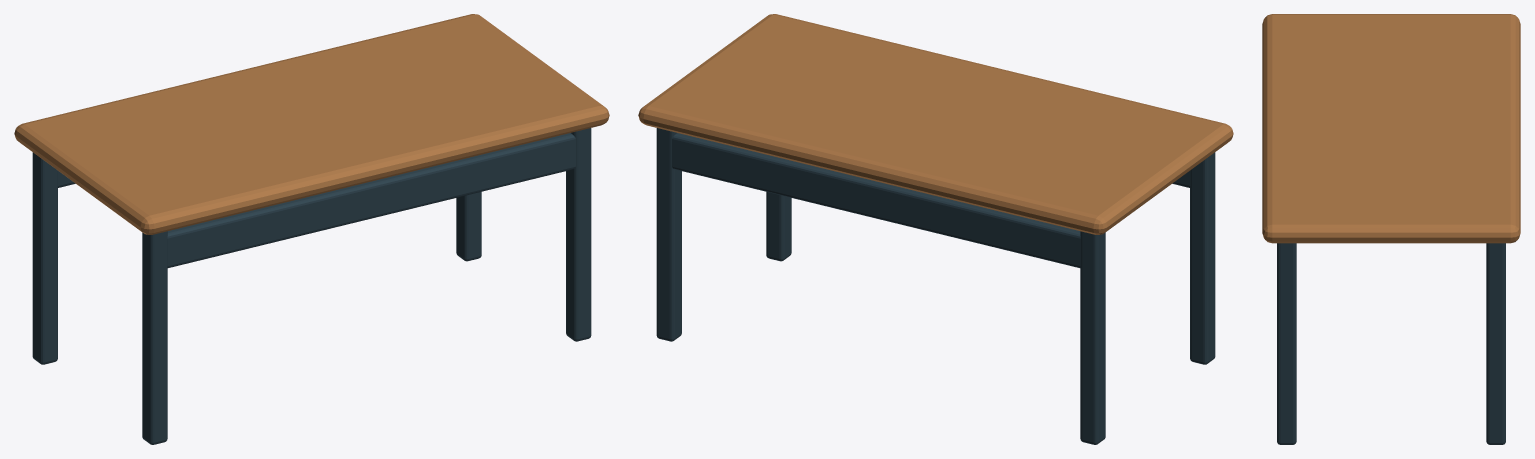
File: StudioDesk.fbx
3 views of the same model, side by side, from view 1: azimuth 30°, elevation 25°; view 2: azimuth 150°, elevation 25°; view 3: azimuth 270°, elevation 25° (orthographic). The views are drawn at different scales.
Visible parts, largest first — view 1: Oak worktop, Apron, Leg, Leg.001, Leg.002, Leg.003; view 2: Oak worktop, Apron.001, Leg.001, Leg, Leg.003, Leg.002; view 3: Oak worktop, Leg.002, Leg.003.
Boxes of the visible parts, bbox=[...] form: Oak worktop: bbox=[14, 14, 609, 234]; Apron: bbox=[167, 133, 575, 267]; Leg: bbox=[142, 231, 167, 444]; Leg.001: bbox=[32, 152, 57, 364]; Leg.002: bbox=[566, 128, 591, 341]; Leg.003: bbox=[456, 192, 481, 261]; Oak worktop: bbox=[638, 14, 1233, 234]; Apron.001: bbox=[672, 133, 1080, 267]; Leg.001: bbox=[1080, 231, 1105, 444]; Leg: bbox=[1190, 152, 1215, 364]; Leg.003: bbox=[656, 128, 681, 341]; Leg.002: bbox=[766, 192, 791, 261]; Oak worktop: bbox=[1262, 14, 1520, 243]; Leg.002: bbox=[1277, 243, 1296, 444]; Leg.003: bbox=[1486, 243, 1505, 444].
Bounding box in the file's own units: 1.7 × 0.8125 × 0.85.
